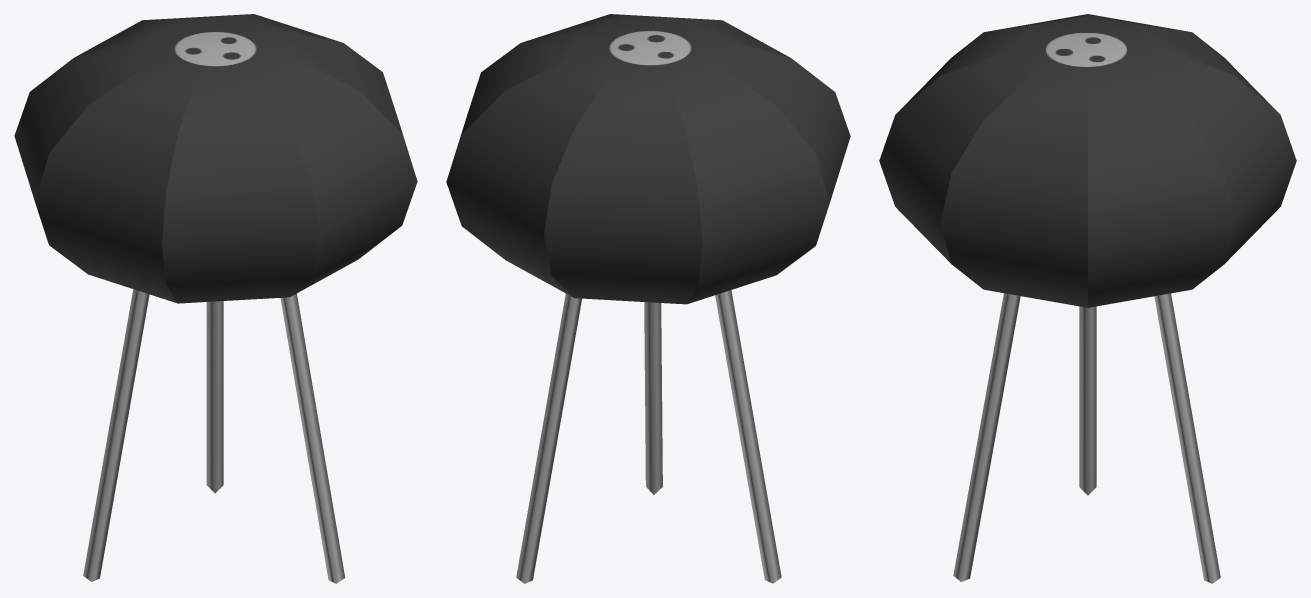
The model's file is env_bbq.fbx.
The picture shows the model from 3 angles, left to right: view 1: azimuth 30°, elevation 25°; view 2: azimuth 150°, elevation 25°; view 3: azimuth 270°, elevation 25°; orthographic projection.
Visible parts, largest first — view 1: bbq; view 2: bbq; view 3: bbq.
Part boxes in pixels (left/top/right/bottom): bbq: left=14, top=14, right=417, bottom=583; bbq: left=446, top=14, right=850, bottom=583; bbq: left=879, top=14, right=1296, bottom=583.
Bounding box in the file's own units: 21.3 × 28.25 × 21.3.
